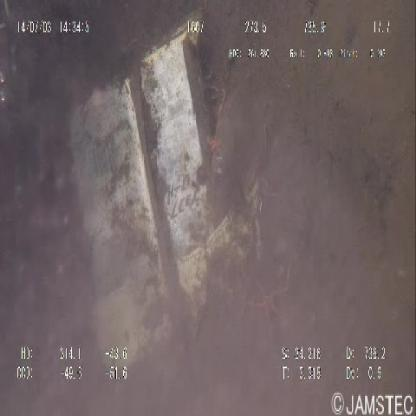Rác: (58, 16, 266, 384)
